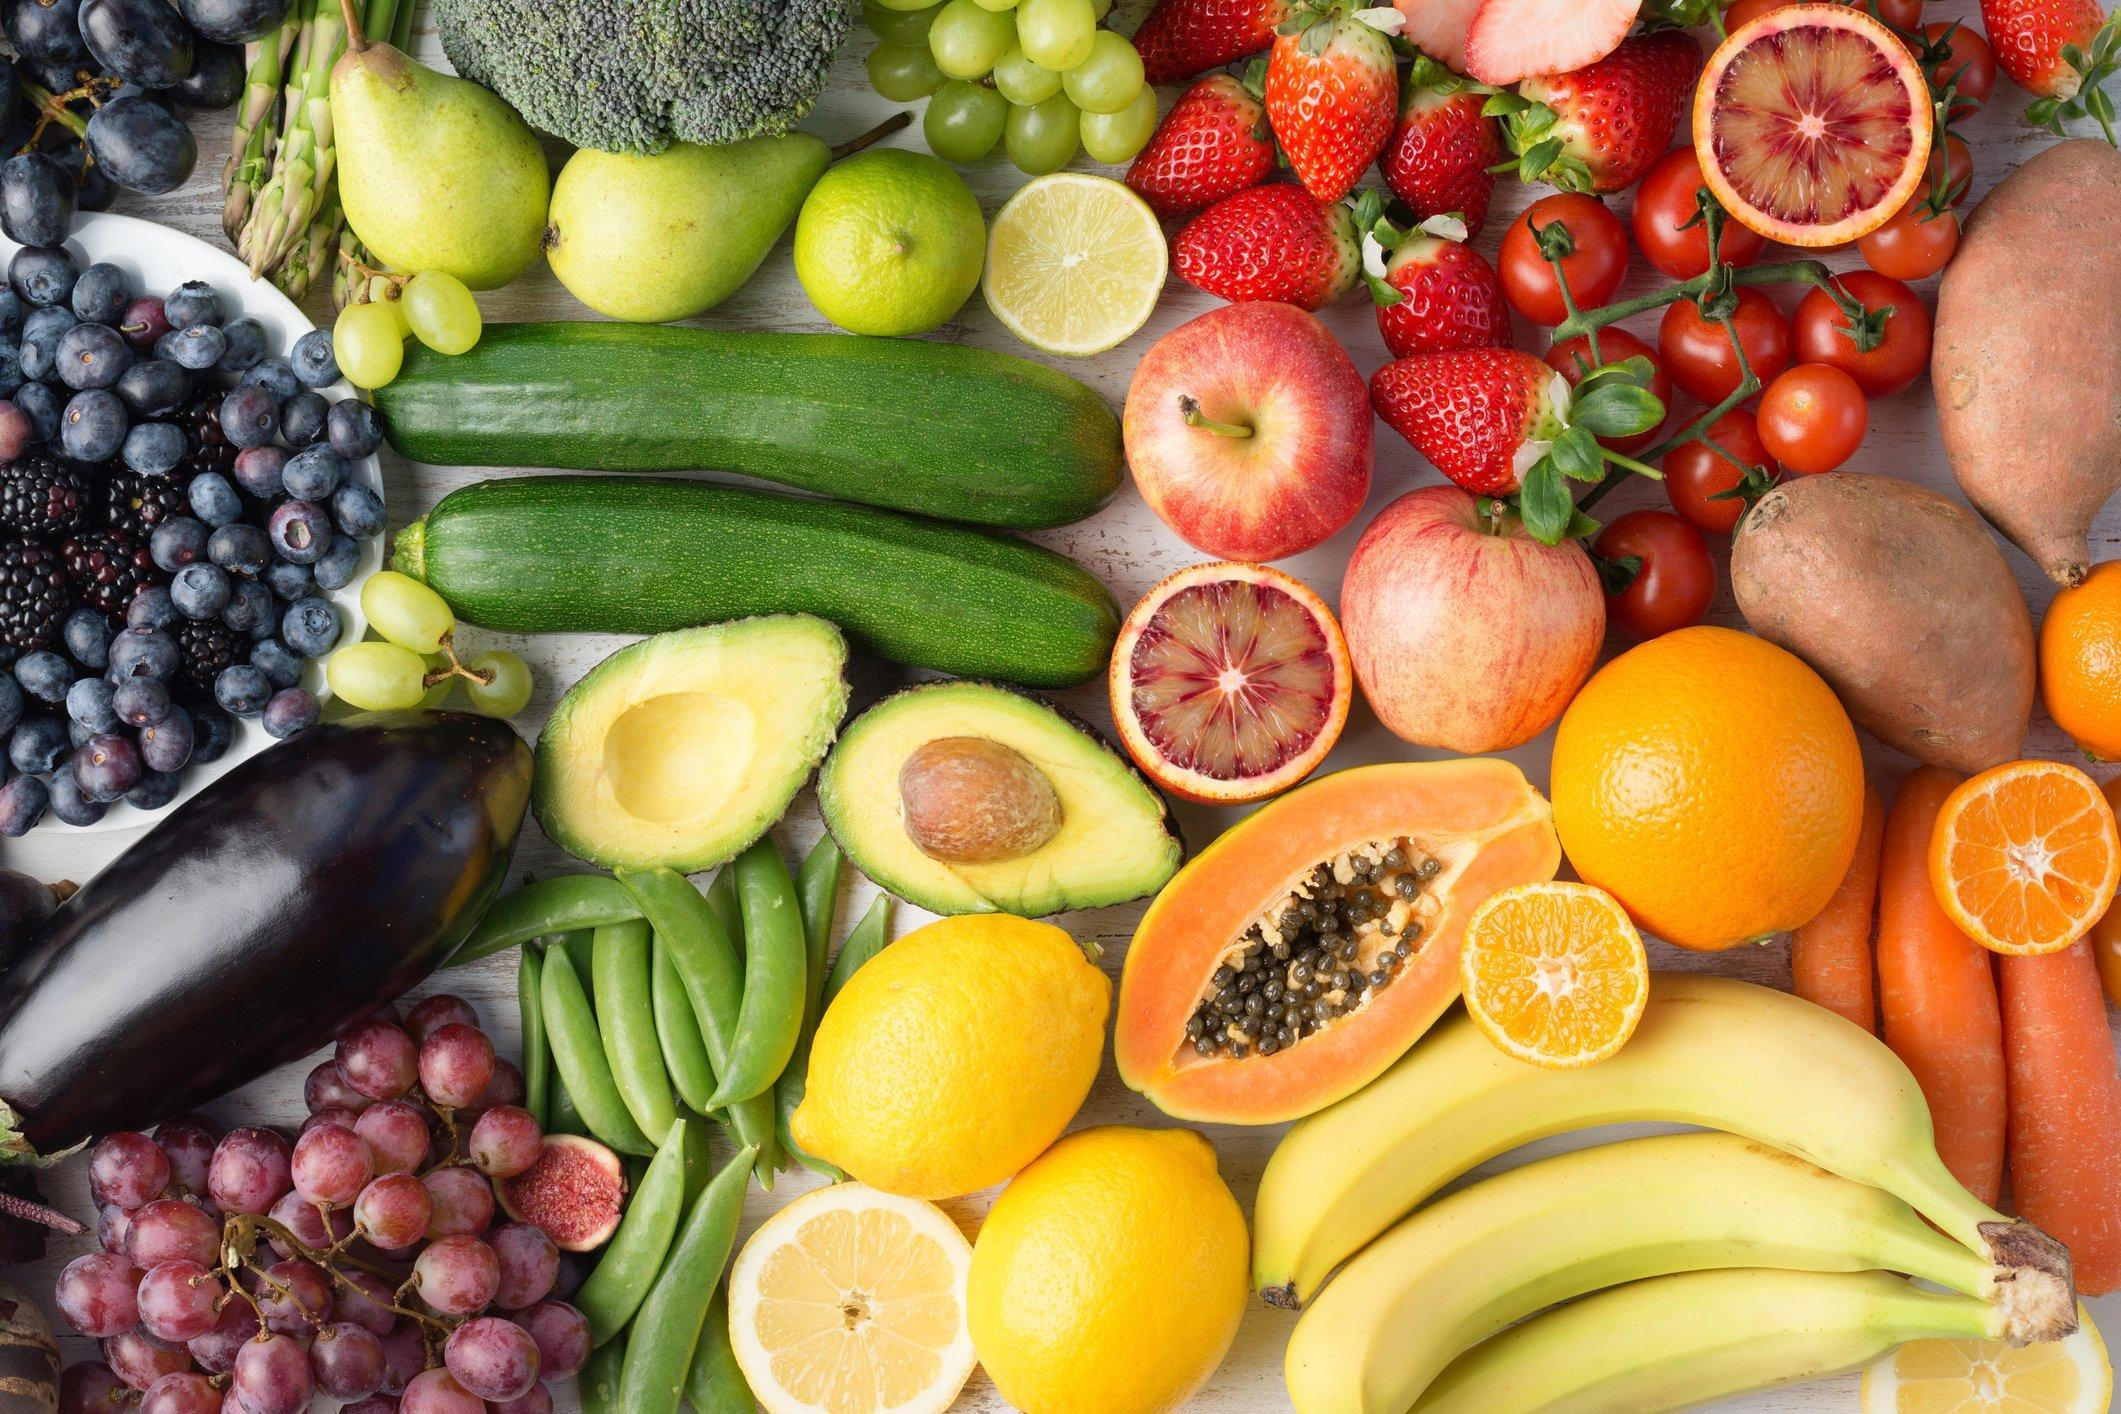apple: (1338, 486, 1614, 757), (1117, 298, 1376, 570), (540, 136, 829, 324)
